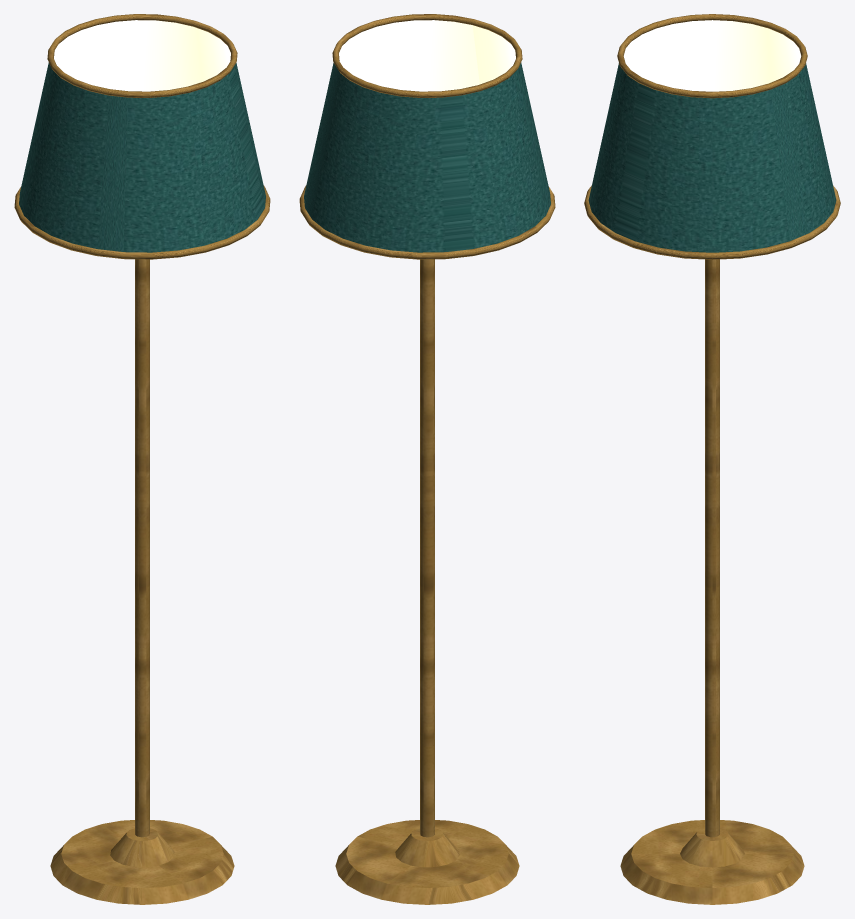
File: floor-lamp.glb
3 views of the same model, side by side, from view 1: azimuth 30°, elevation 25°; view 2: azimuth 150°, elevation 25°; view 3: azimuth 270°, elevation 25° (orthographic).
Visible parts, largest first — view 1: FloorLamp_tealCloth, FloorLamp_brass, FloorLamp_glow; view 2: FloorLamp_tealCloth, FloorLamp_brass, FloorLamp_glow; view 3: FloorLamp_tealCloth, FloorLamp_brass, FloorLamp_glow.
Boxes of the visible parts, x1,y1,x2,y2 form: FloorLamp_tealCloth: [19, 62, 265, 252]; FloorLamp_brass: [14, 14, 270, 904]; FloorLamp_glow: [54, 20, 230, 91]; FloorLamp_tealCloth: [304, 62, 550, 252]; FloorLamp_brass: [299, 14, 555, 904]; FloorLamp_glow: [339, 20, 515, 91]; FloorLamp_tealCloth: [588, 63, 836, 252]; FloorLamp_brass: [584, 14, 840, 904]; FloorLamp_glow: [623, 20, 801, 91].
Size of the model in its own units: 0.474 by 1.66 by 0.474.
Materials: 3 (2 with a texture image).
